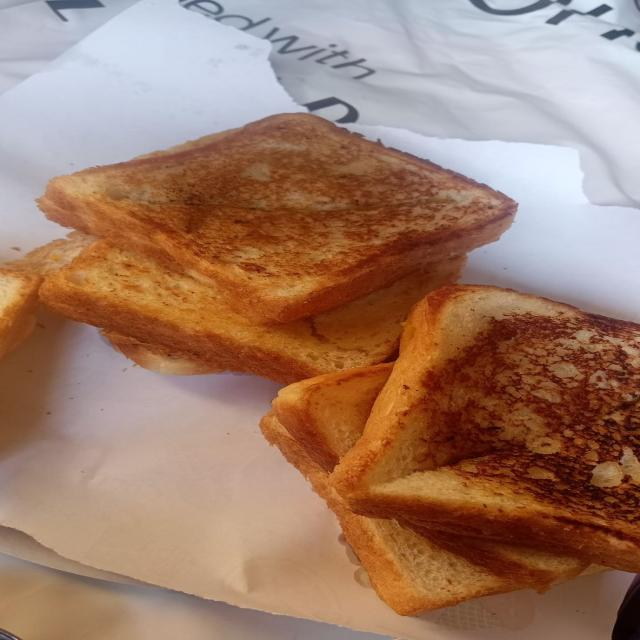toast bread: (40, 114, 516, 323), (334, 286, 639, 571), (40, 241, 465, 382), (403, 523, 588, 590), (0, 269, 41, 358)
